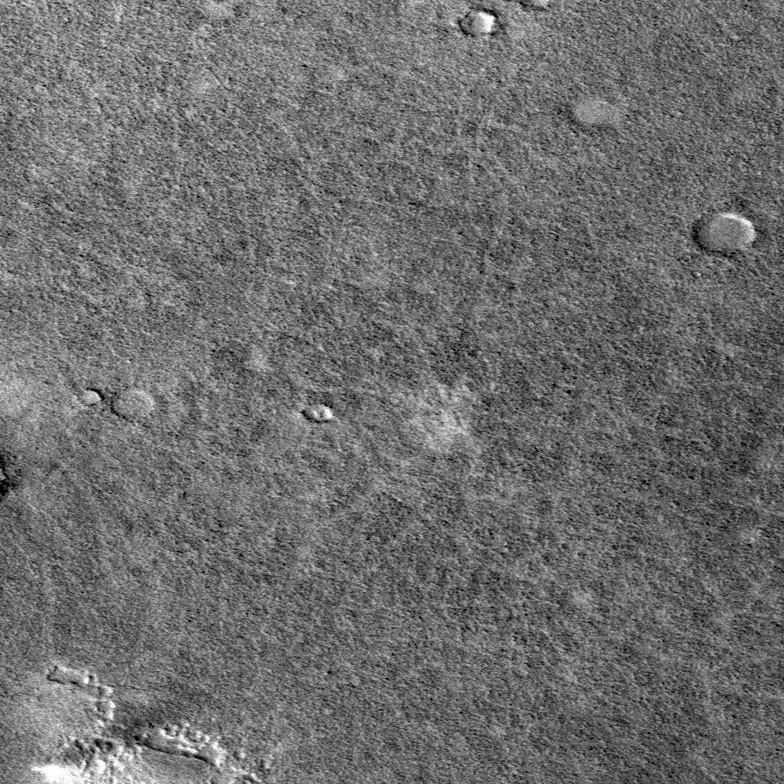dust_devil: (26, 690, 184, 784)
